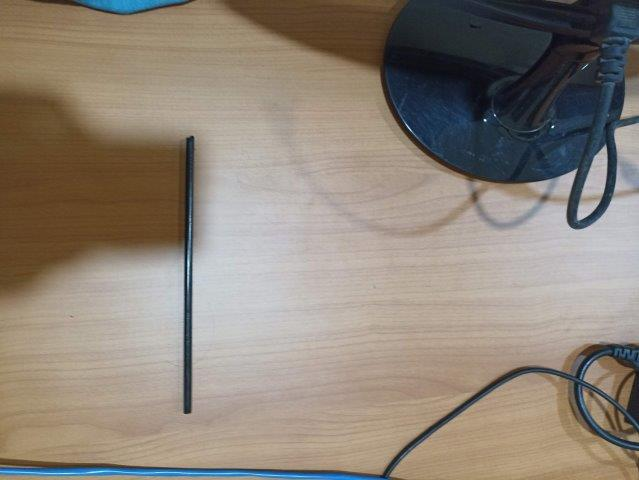sedotan: (183, 137, 195, 413)
